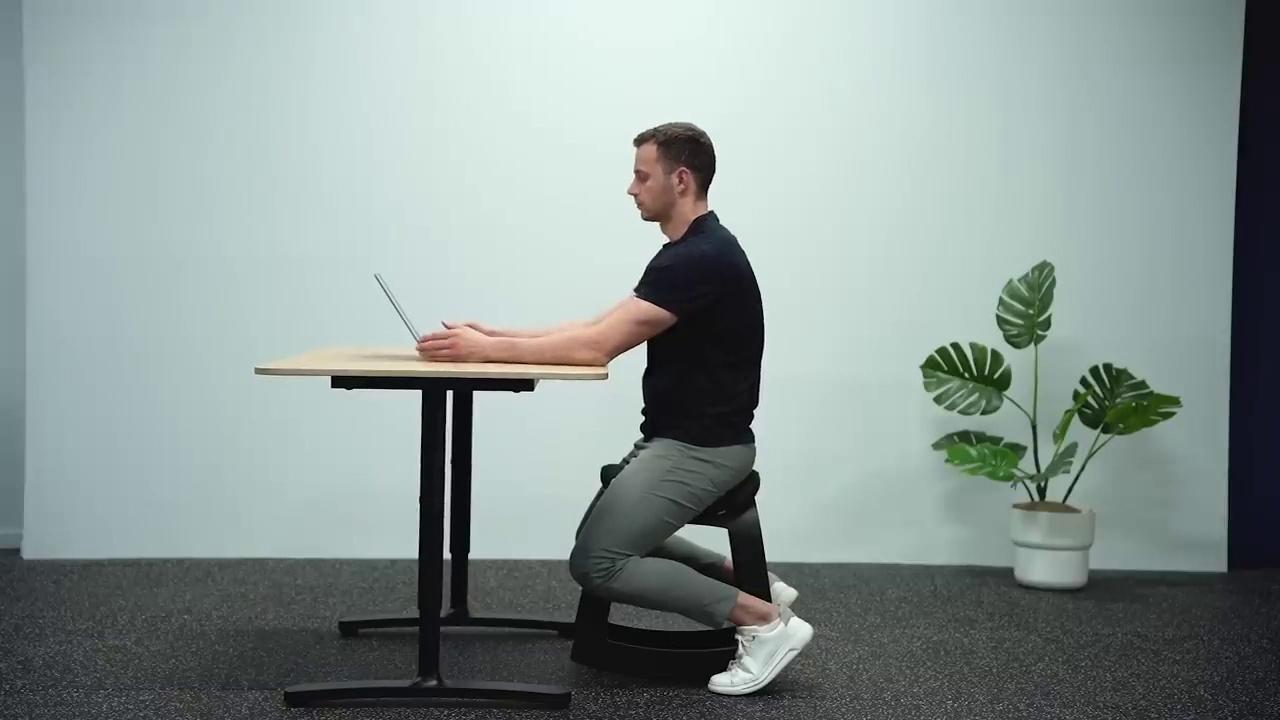GoodPosture: (423, 124, 762, 623)
